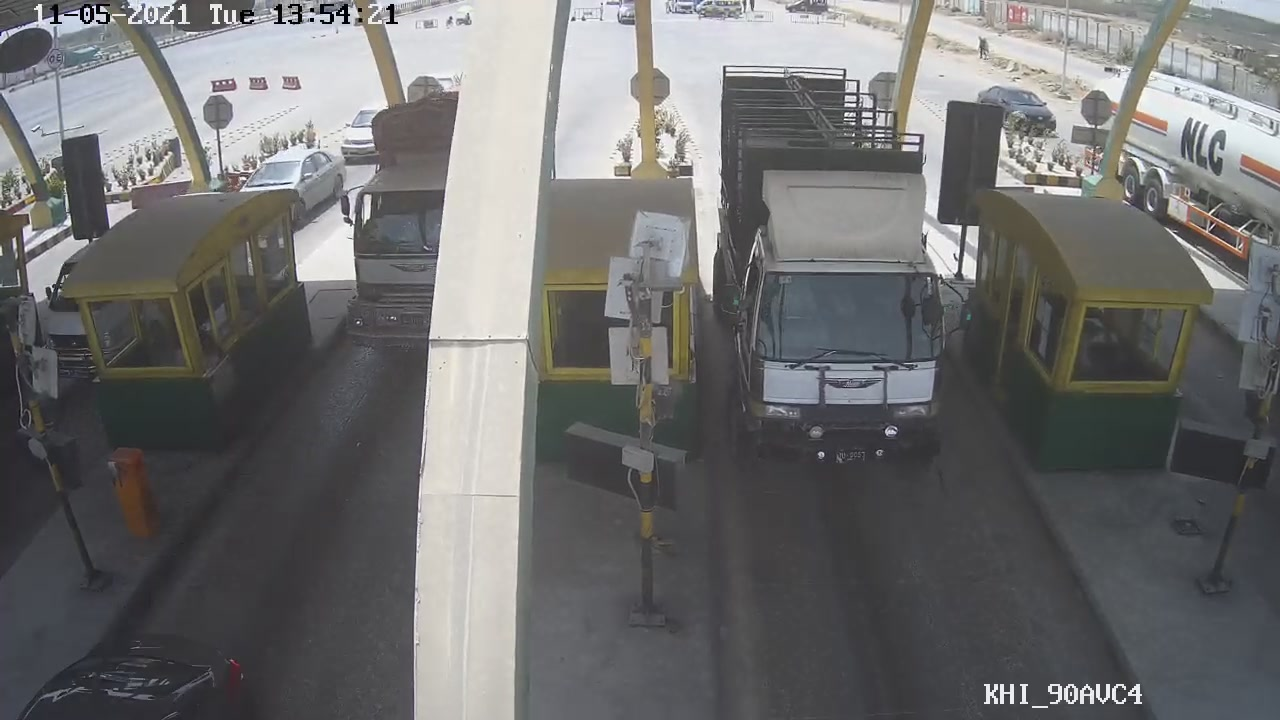F5: (708, 79, 970, 477)
